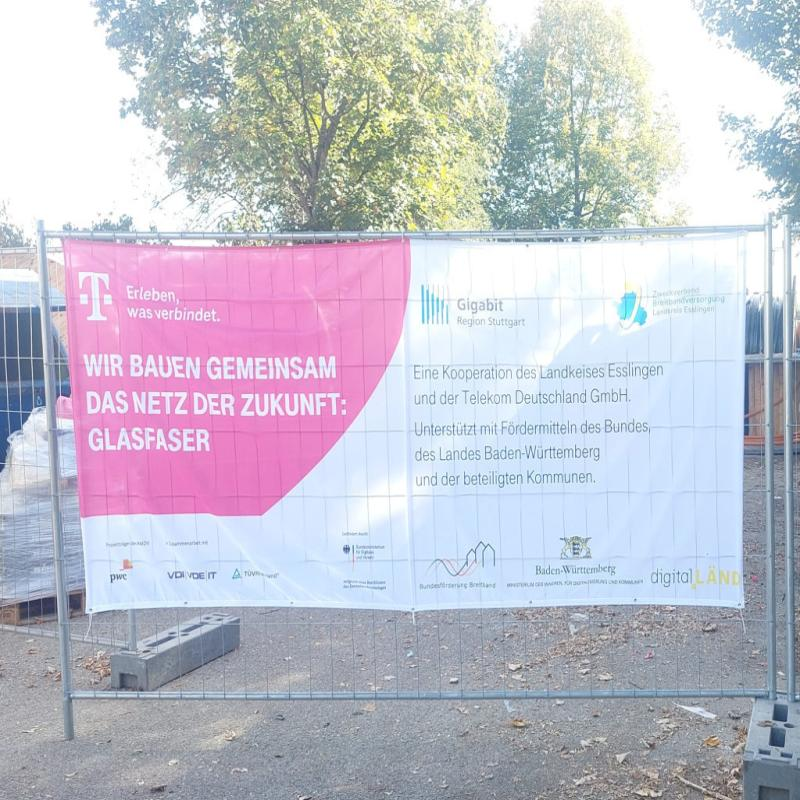Banner: (66, 237, 750, 612)
